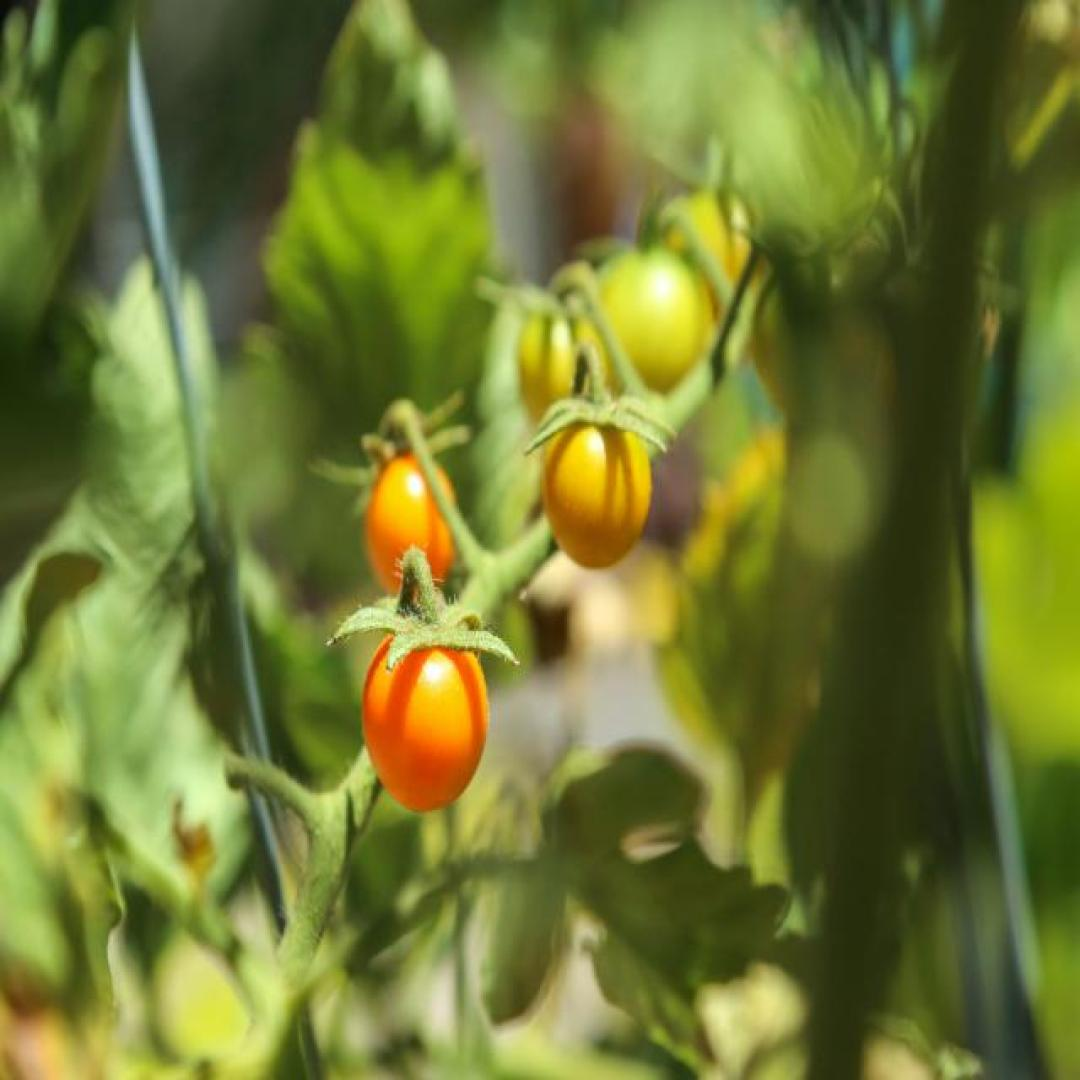setengah_matang: (360, 618, 490, 815), (540, 402, 655, 570)
